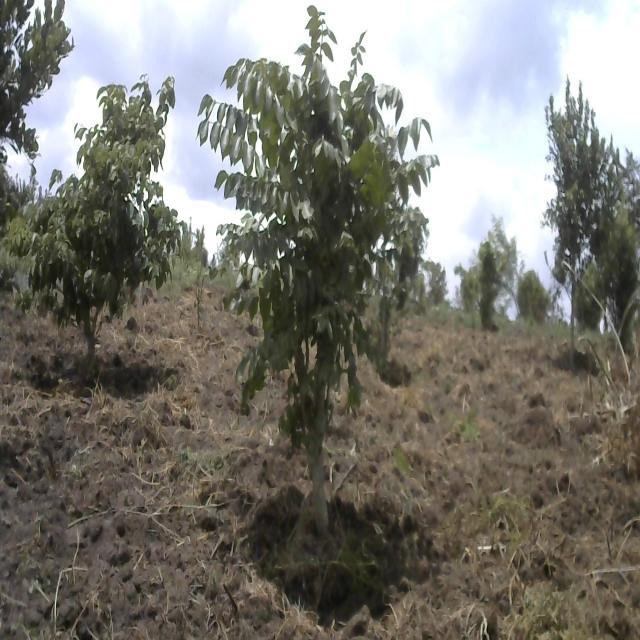Polyscias fulva: (188, 4, 464, 588), (49, 73, 193, 382)
